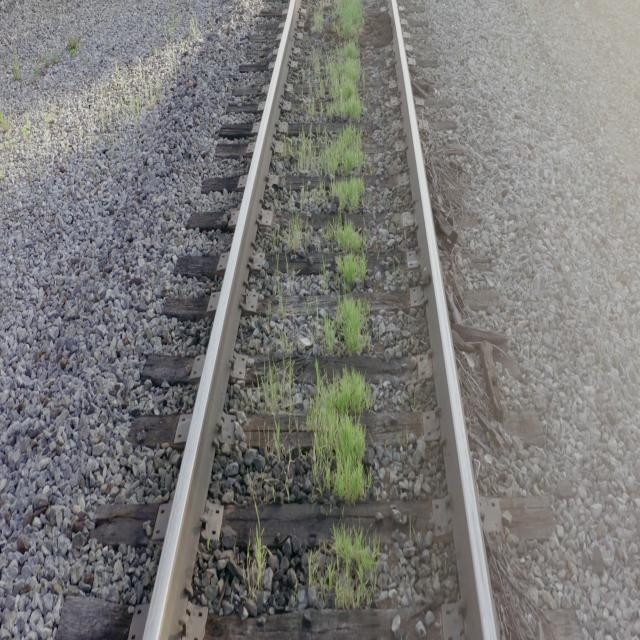Plant: (280, 0, 370, 356), (306, 371, 371, 504), (309, 524, 380, 609), (308, 524, 380, 607), (262, 364, 292, 413), (248, 533, 269, 589), (286, 211, 310, 249), (310, 4, 326, 36), (275, 429, 279, 440)
